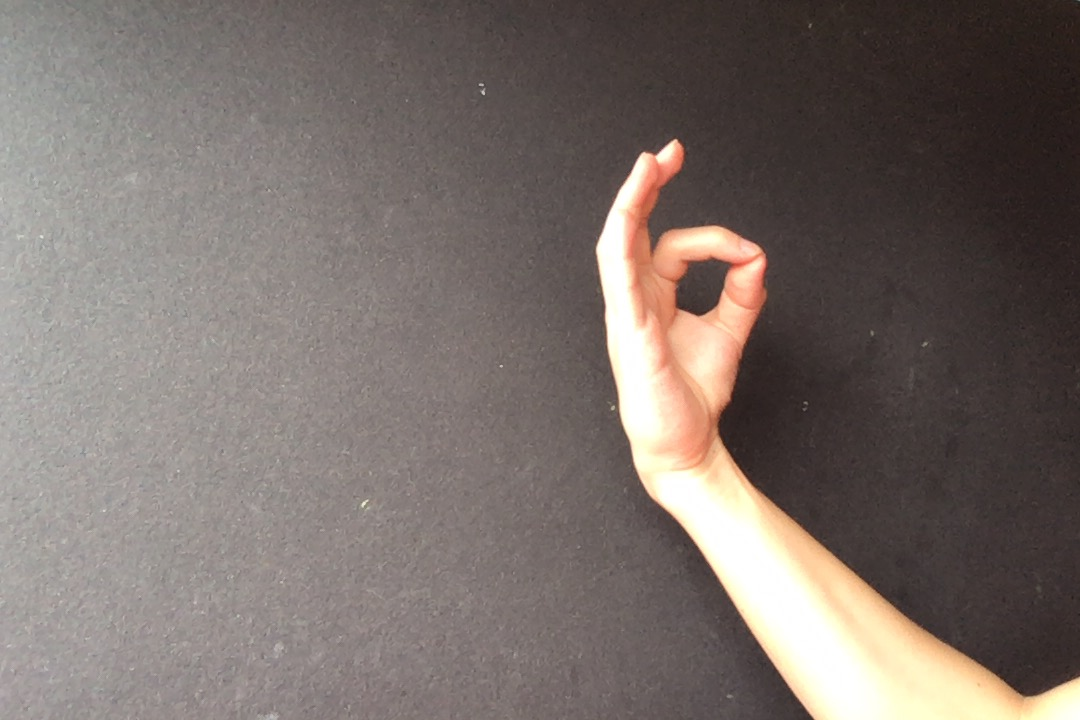oksign: (590, 133, 773, 485)
